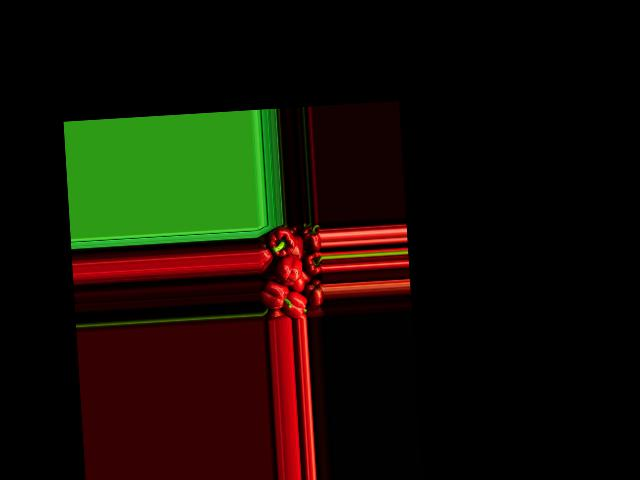bell_pepper: (301, 224, 321, 250)
